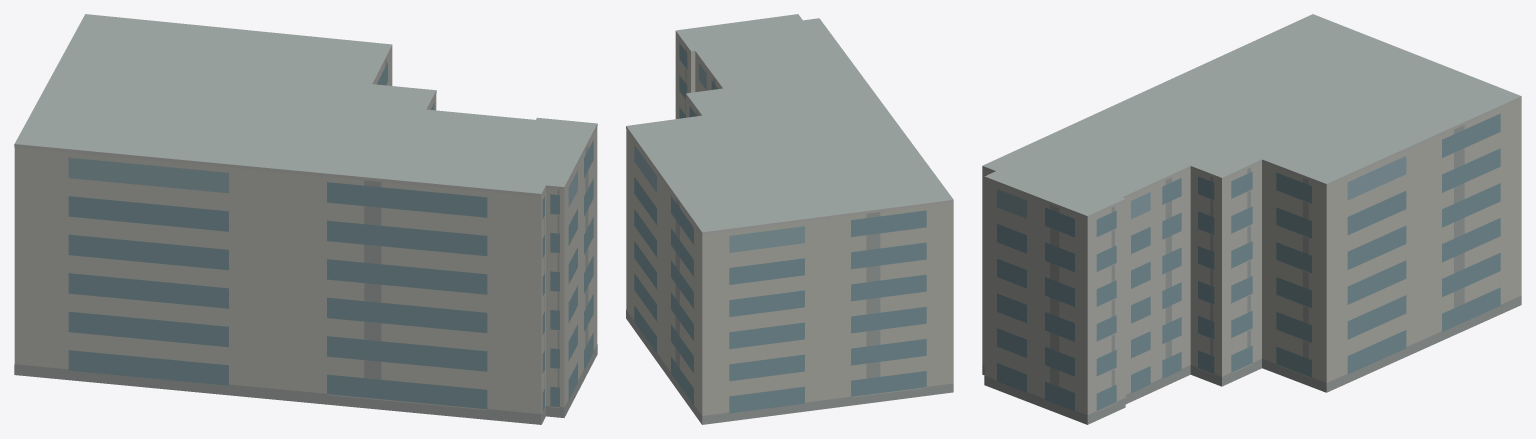
File: survey-upis-32886188.glb
3 renders of one model, left to right at view 1: azimuth 30°, elevation 25°; view 2: azimuth 150°, elevation 25°; view 3: azimuth 270°, elevation 25°, orthographic. The views are drawn at different scales.
Visible parts, largest first — view 1: survey-upis-32886188.tmp; view 2: survey-upis-32886188.tmp; view 3: survey-upis-32886188.tmp.
Boxes of the visible parts, <box> form: survey-upis-32886188.tmp: <box>14,14,597,424</box>; survey-upis-32886188.tmp: <box>626,14,953,424</box>; survey-upis-32886188.tmp: <box>982,14,1521,424</box>.
Bounding box in the file's own units: 36.45 × 17.55 × 41.11.
